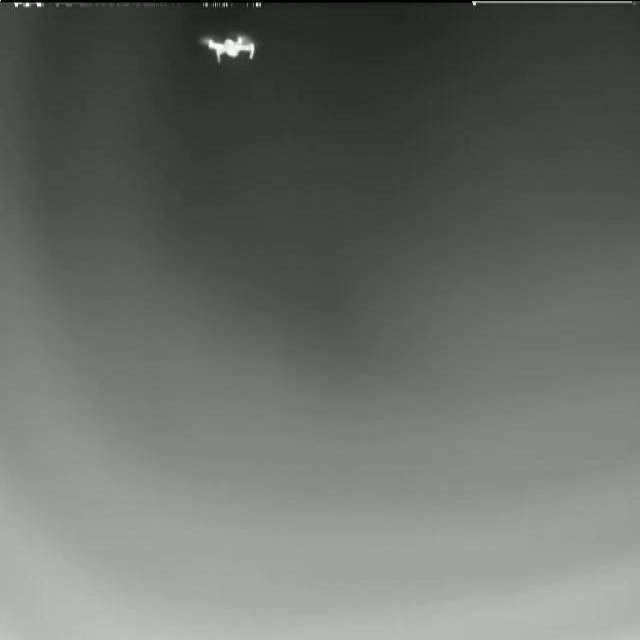DRONE: (197, 29, 259, 67)
